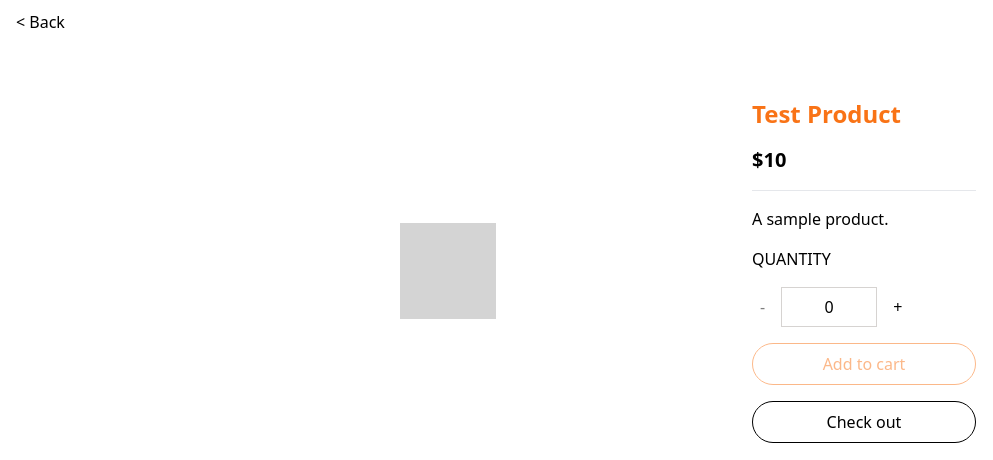
Test: ProductPage Component › Clicking the increment button increases the quantity
Click the button with test id "increment-button": (898, 307) [885,287,910,327]
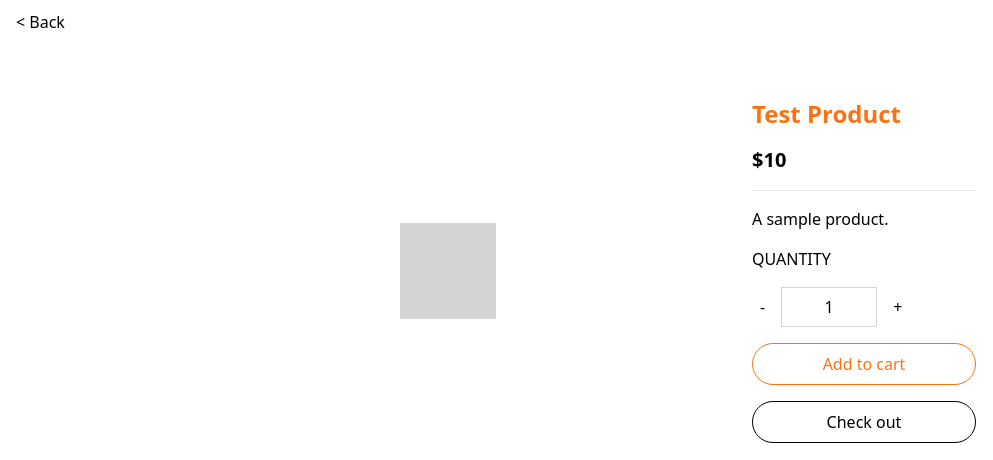
Check: the number field holds "1", box [781,287,877,327]
